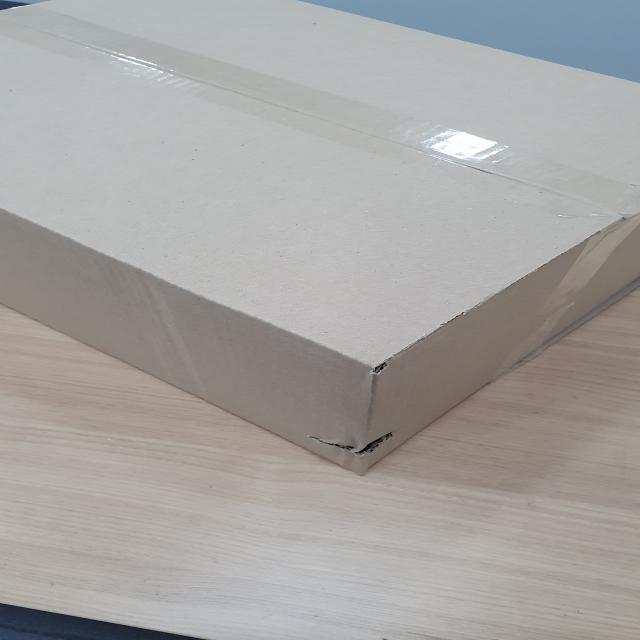hole: (310, 423, 396, 459)
